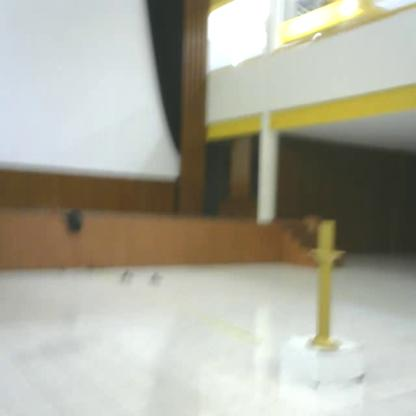pole: (305, 219, 347, 355)
